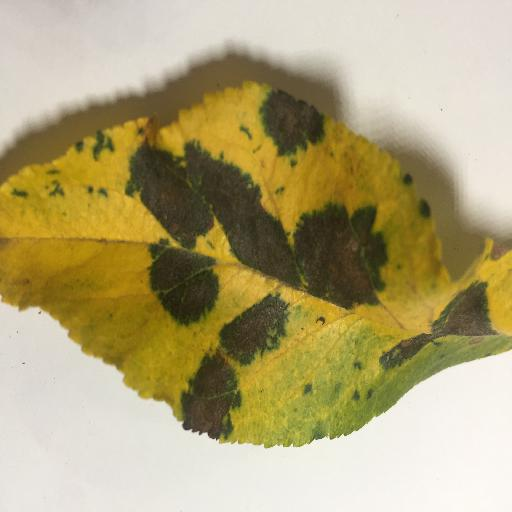Brown_Spot: (203, 164, 295, 284), (356, 299, 490, 368), (285, 216, 376, 299), (125, 160, 196, 234), (184, 357, 235, 434), (149, 244, 211, 307), (263, 90, 322, 147), (224, 302, 284, 347)
